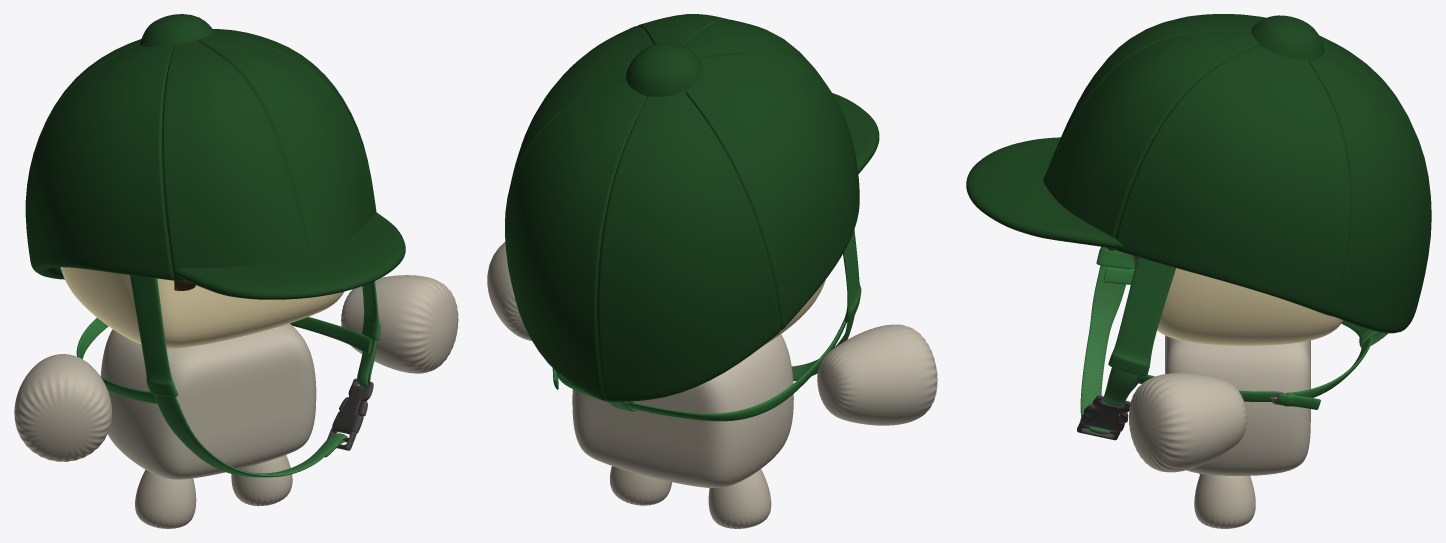
3 views of the same model, side by side, from view 1: azimuth 30°, elevation 25°; view 2: azimuth 150°, elevation 25°; view 3: azimuth 270°, elevation 25° (orthographic). The views are drawn at different scales.
Visible parts, largest first — view 1: helmet, 몸, 머리, 왼팔, 오른팔, 왼발, 오른발; view 2: helmet, 몸, 왼팔, 왼발, 오른팔, 오른발; view 3: helmet, 몸, 오른팔, 머리, 오른발.
Boxes of the visible parts, x1,y1,x2,y2 form: helmet: [25, 14, 405, 477]; 몸: [100, 323, 316, 479]; 머리: [60, 267, 344, 348]; 왼팔: [14, 354, 111, 461]; 오른팔: [341, 275, 458, 373]; 왼발: [135, 469, 196, 528]; 오른발: [231, 455, 292, 506]; helmet: [505, 14, 879, 421]; 몸: [572, 334, 793, 488]; 왼팔: [817, 324, 937, 425]; 왼발: [708, 469, 771, 528]; 오른팔: [487, 242, 531, 340]; 오른발: [610, 466, 671, 505]; helmet: [966, 14, 1431, 440]; 몸: [1165, 335, 1310, 475]; 오른팔: [1128, 373, 1247, 472]; 머리: [1157, 268, 1342, 345]; 오른발: [1194, 473, 1255, 528].
Bounding box in the file's own units: 665 × 695 × 612.
